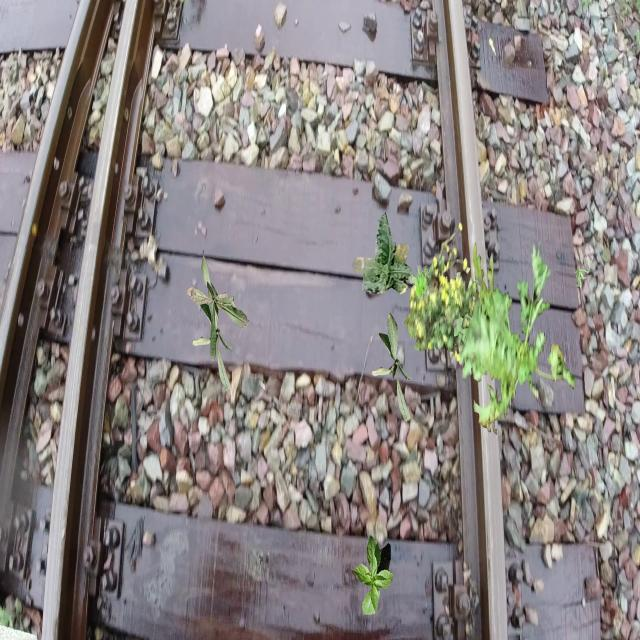Plant: (451, 239, 576, 435), (404, 222, 479, 362), (186, 250, 250, 362), (352, 212, 416, 295), (372, 313, 412, 423), (193, 282, 233, 392), (352, 535, 394, 615), (408, 266, 428, 299), (575, 269, 589, 290)
